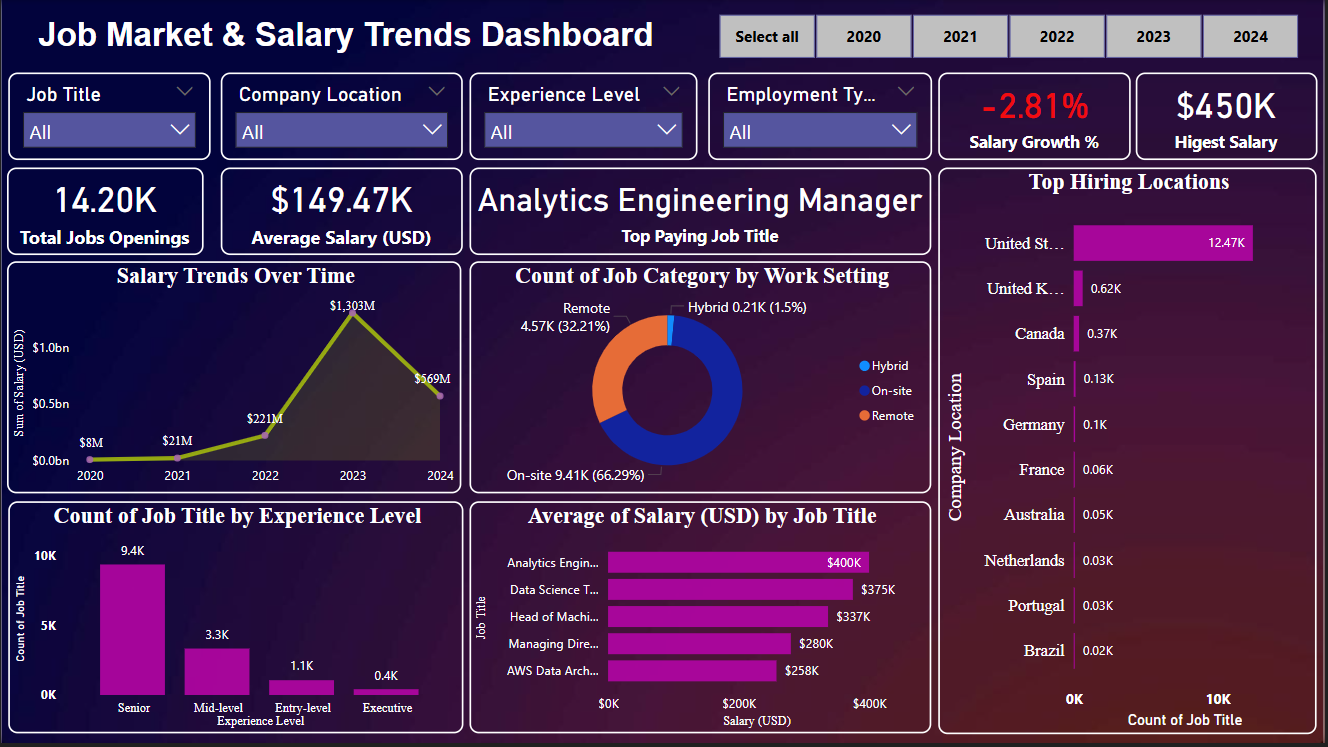

The page's visual inventory and layout, read from the dashboard file:
{"tool":"powerbi","page":{"name":"Main Dashboard","canvas":[1280,720],"ordinal":0},"visuals":[{"type":"textbox","box":[12.1,10.9,641.6,47.2],"z":0},{"type":"slicer","fields":{"Values":["jobs_in_data.Job Title"]},"box":[5.5,70,196.2,85.1],"z":1000},{"type":"slicer","title":"Job ","fields":{"Values":["jobs_in_data.Company Location"]},"box":[211.3,70,234.6,85.1],"z":2000},{"type":"slicer","fields":{"Values":["jobs_in_data.Experience Level"]},"box":[452.8,70,220.9,85.1],"z":3000},{"type":"slicer","fields":{"Values":["jobs_in_data.Employment Type"]},"box":[683.4,70,216.8,85.1],"z":4000},{"type":"slicer","fields":{"Values":["jobs_in_data.Year"]},"box":[673.8,0,599.7,70],"z":5000},{"type":"card","fields":{"Values":["jobs_in_data.Total_jobs_openings"]},"box":[4.8,162.2,197.3,84.7],"z":6000},{"type":"card","fields":{"Values":["jobs_in_data.Average Salary (USD)"]},"box":[211.3,161.9,234.6,85.1],"z":7000},{"type":"card","fields":{"Values":["jobs_in_data.Higest_salary"]},"box":[1097.8,70,175.6,85.1],"z":8000},{"type":"areaChart","title":"Salary Trends Over Time","fields":{"Category":["jobs_in_data.Year"],"Y":["Sum(jobs_in_data.Salary (USD))"]},"box":[5,252.5,440,225],"z":12000},{"type":"donutChart","fields":{"Y":["CountNonNull(jobs_in_data.Job Category)"],"Category":["jobs_in_data.Work Setting"]},"box":[452.8,252.5,447.3,225],"z":13000},{"type":"clusteredBarChart","fields":{"Category":["jobs_in_data.Job Title"],"Y":["Avg(jobs_in_data.Salary (USD))"]},"box":[452.8,485.8,447.3,225],"z":14000},{"type":"columnChart","title":"Count of Job Title by Experience Level","fields":{"Category":["jobs_in_data.Experience Level"],"Y":["CountNonNull(jobs_in_data.Job Title)"]},"box":[5.5,485.8,440.5,225],"z":15000},{"type":"clusteredBarChart","title":"Top Hiring Locations","fields":{"Category":["jobs_in_data.Company Location"],"Y":["CountNonNull(jobs_in_data.Job Title)"]},"box":[907,161.9,366.4,548.9],"z":16000},{"type":"card","fields":{"Values":["jobs_in_data.Salary Growth %"]},"box":[907,70,186.6,85.1],"z":17000},{"type":"card","fields":{"Values":["jobs_in_data.Top Paying Job Title"]},"box":[452.8,161.9,447.3,85.1],"z":18000}]}

Visuals, with their boxes in screenshot pixels (x1, y1, x2, y2), scaled from the page's 1280x720 canvas onto the 1328x747 screenshot:
textbox: Rect(13, 11, 678, 60)
slicer - jobs_in_data.Job Title: Rect(6, 73, 209, 161)
"Job " slicer: Rect(219, 73, 463, 161)
slicer - jobs_in_data.Experience Level: Rect(470, 73, 699, 161)
slicer - jobs_in_data.Employment Type: Rect(709, 73, 934, 161)
slicer - jobs_in_data.Year: Rect(699, 0, 1321, 73)
card - jobs_in_data.Total_jobs_openings: Rect(5, 168, 210, 256)
card - jobs_in_data.Average Salary (USD): Rect(219, 168, 463, 256)
card - jobs_in_data.Higest_salary: Rect(1139, 73, 1321, 161)
"Salary Trends Over Time" areaChart: Rect(5, 262, 462, 495)
donutChart - CountNonNull(jobs_in_data.Job Category) x jobs_in_data.Work Setting: Rect(470, 262, 934, 495)
clusteredBarChart - jobs_in_data.Job Title x Avg(jobs_in_data.Salary (USD)): Rect(470, 504, 934, 737)
"Count of Job Title by Experience Level" columnChart: Rect(6, 504, 463, 737)
"Top Hiring Locations" clusteredBarChart: Rect(941, 168, 1321, 737)
card - jobs_in_data.Salary Growth %: Rect(941, 73, 1135, 161)
card - jobs_in_data.Top Paying Job Title: Rect(470, 168, 934, 256)
